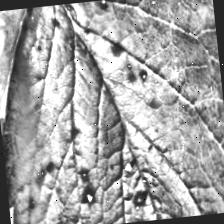Leaf Spot: (0, 0, 224, 224), (0, 7, 65, 224)
